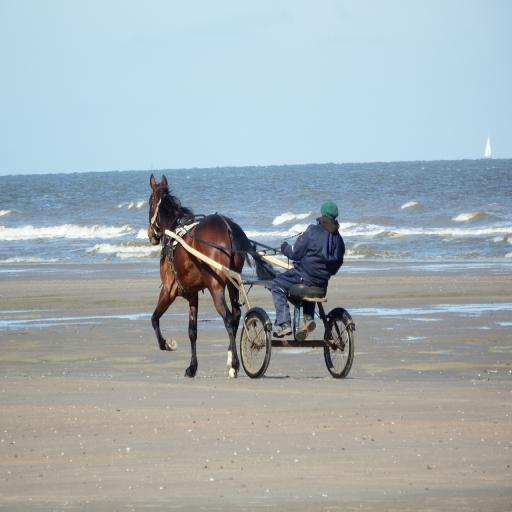horse: (148, 172, 280, 380)
